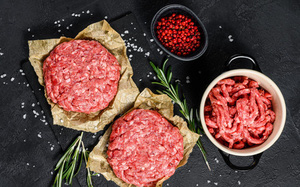ground_beef: (47, 40, 120, 115), (117, 107, 190, 178), (215, 86, 282, 145)
